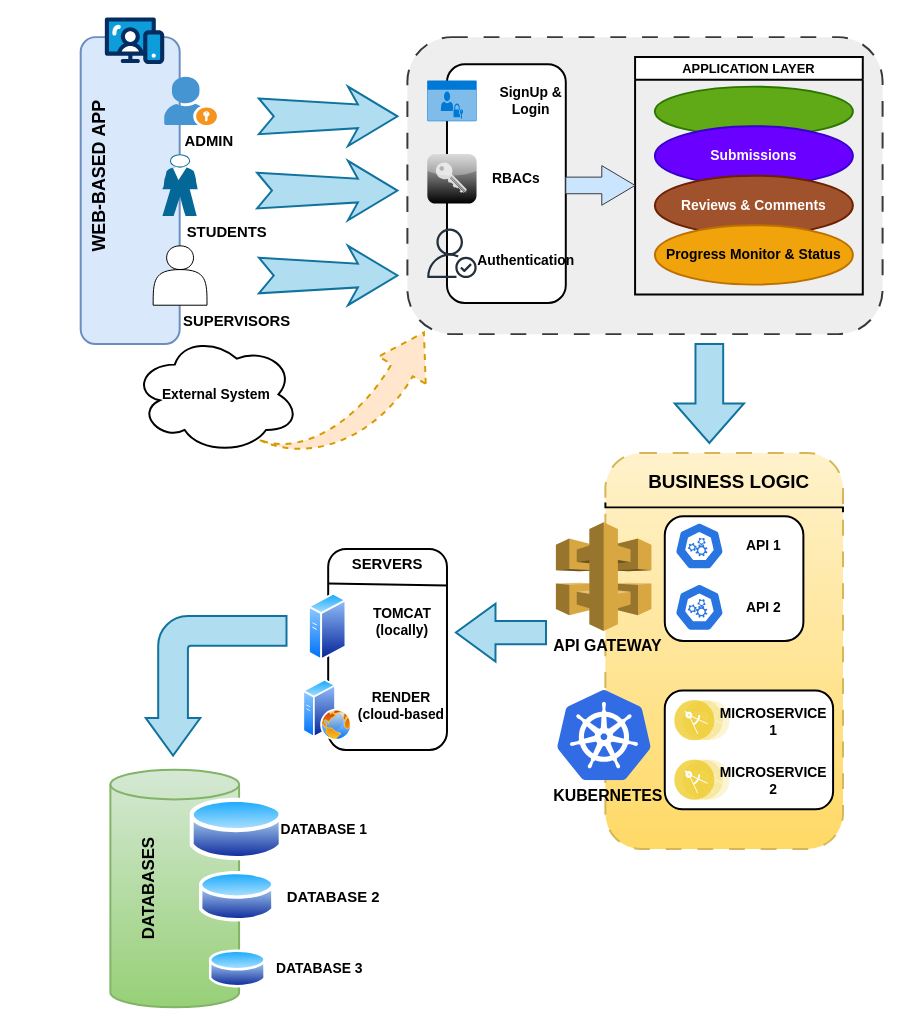
Image size: 901x1026. Some labels were removed from this diagram. The shapes that lost their labels are listed below. From the top down, each one's centre as x and y in pixels, then its label:
At pixel 451 100: "Login".
At pixel 753 111: "User Mgt".
